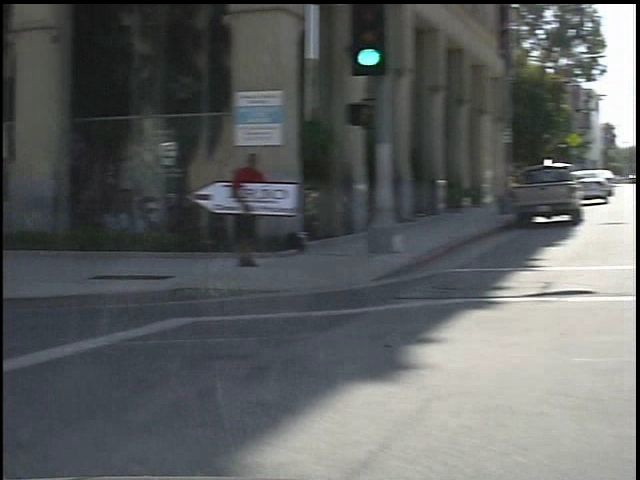person: (210, 144, 253, 273)
